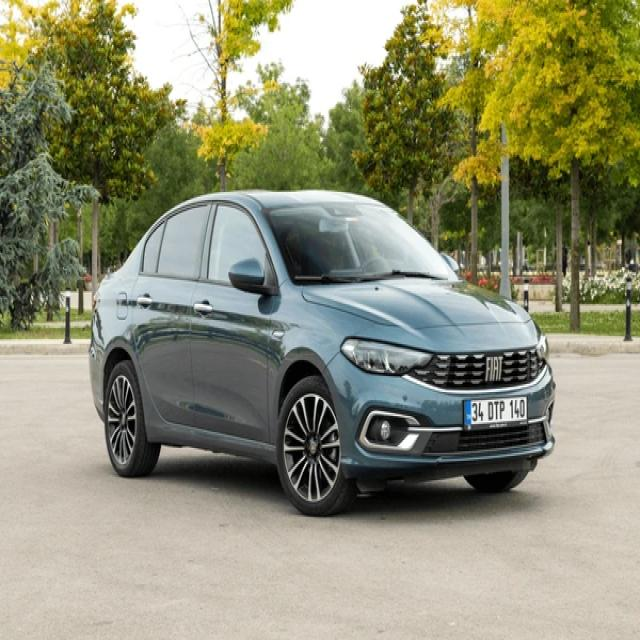fiat: (482, 348, 505, 389)
